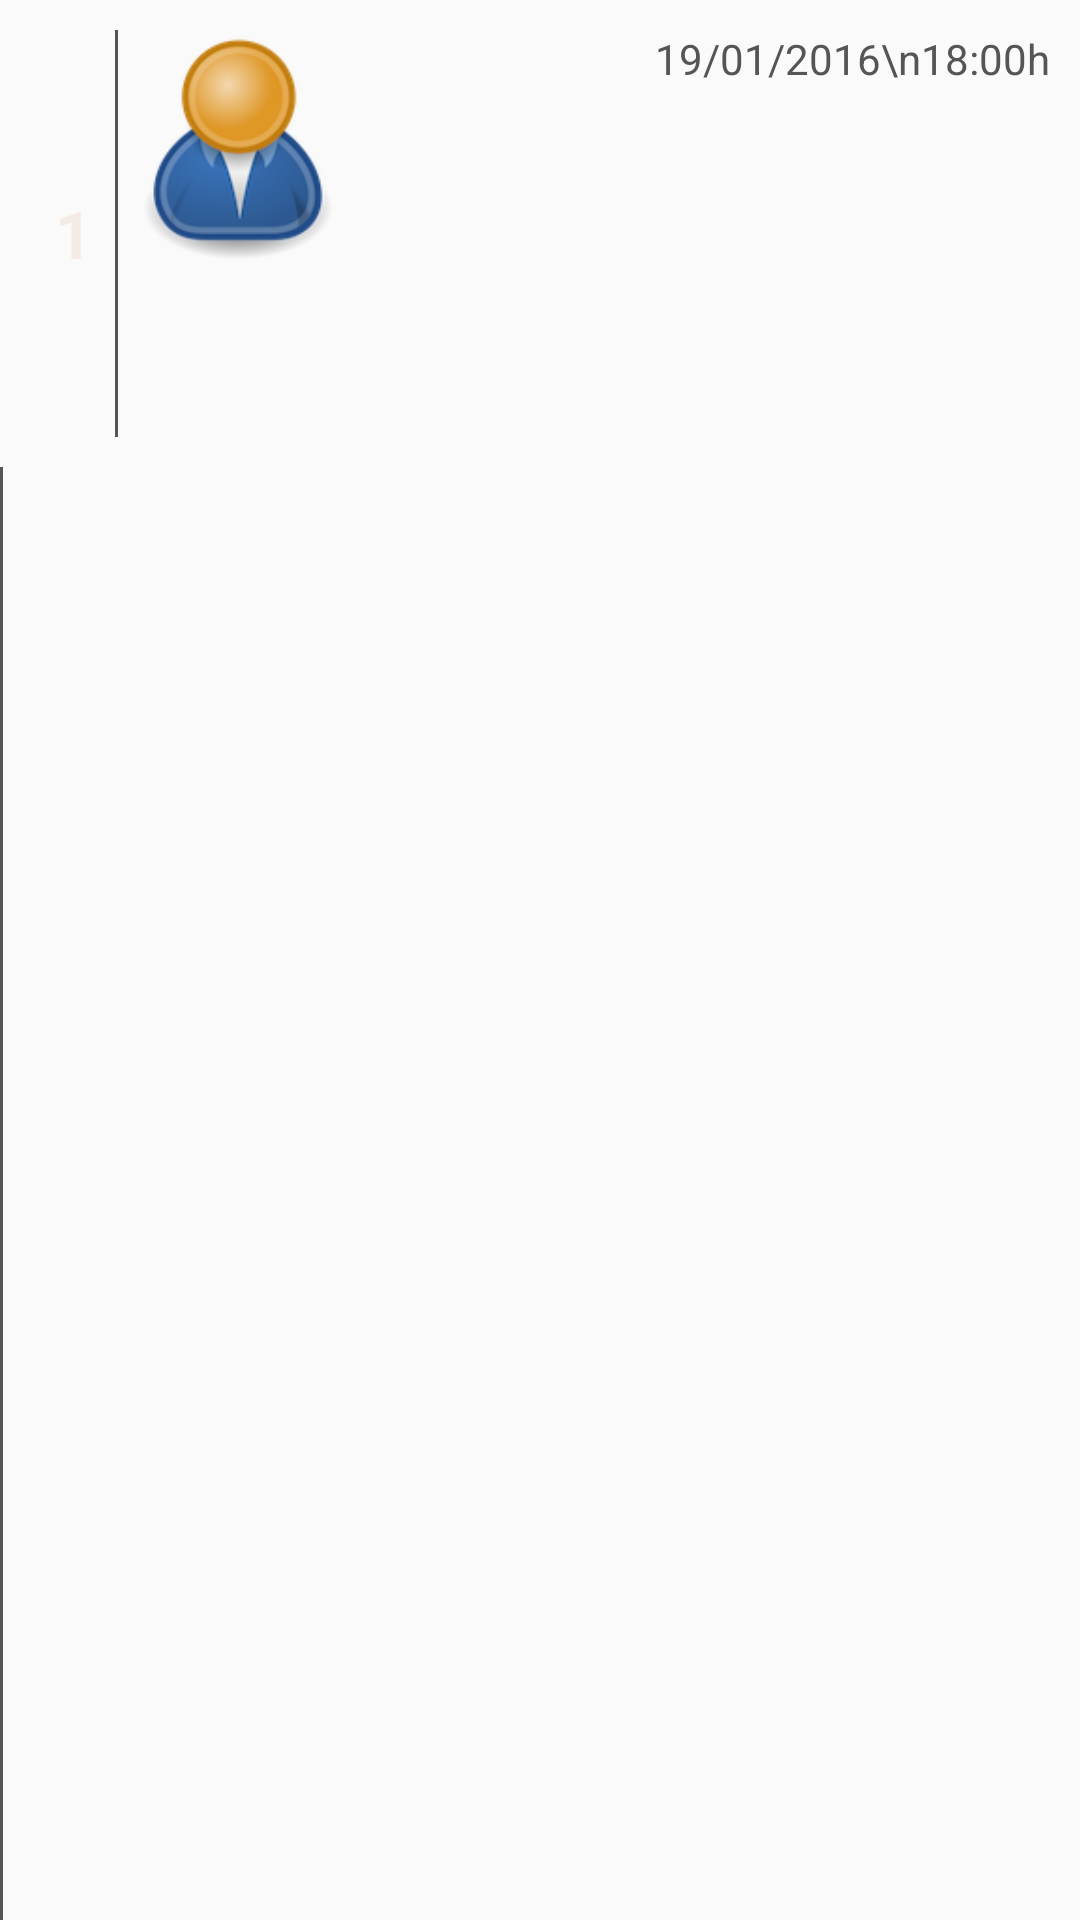

Icons on this 1080×1920 Android screen, each with the point to tap as point (x, y):
user: point (238, 146)
